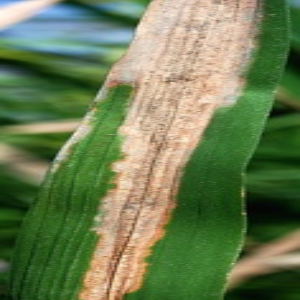Bacterial_Blight: (92, 1, 235, 296)
